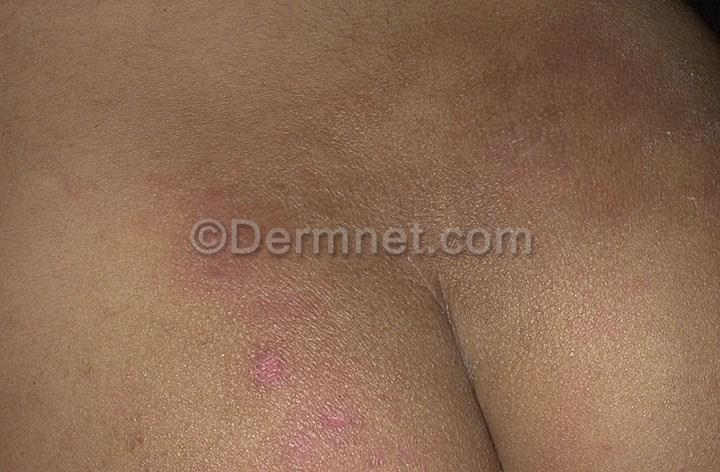eritema 1: (137, 168, 397, 472)
excoriacion 1: (468, 0, 719, 230)
xerosis 2: (0, 1, 720, 472)
